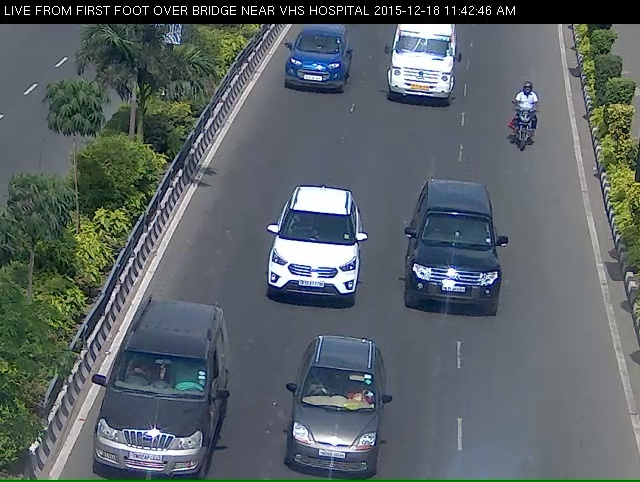Bus: (381, 19, 461, 117)
Car: (92, 329, 226, 482), (402, 201, 510, 345), (280, 363, 391, 482), (276, 196, 367, 340), (282, 29, 349, 110)
Person: (511, 89, 542, 161)
